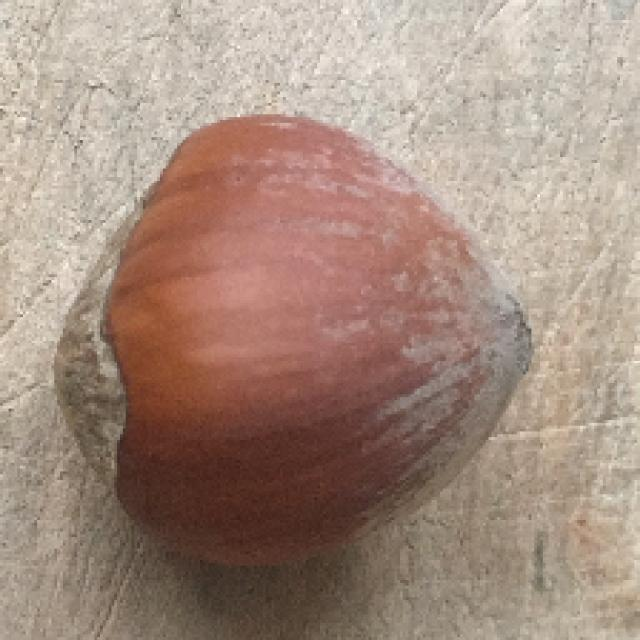qualityHazelnut: (63, 116, 530, 569)
